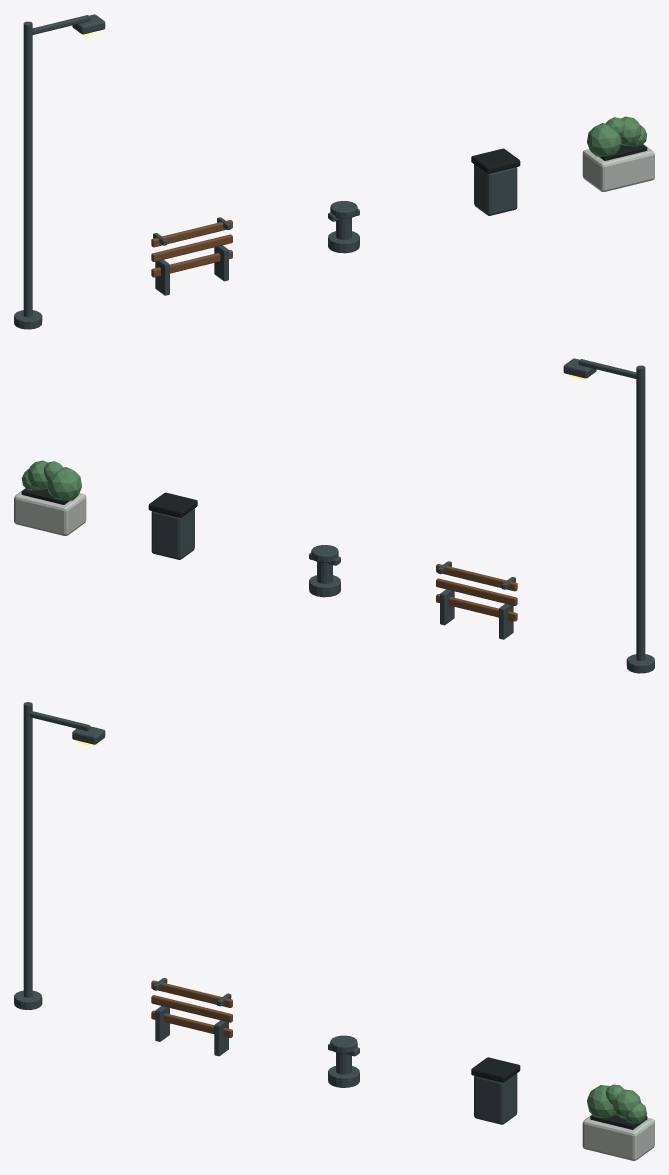
File: streetKit.glb
3 renders of one model, top to bottom at view 1: azimuth 30°, elevation 25°; view 2: azimuth 150°, elevation 25°; view 3: azimuth 330°, elevation 25°, orthographic.
Visible parts, largest first — view 1: Lamp_Pole, Planter_Tub, Bin_Body, Planter_Foliage, Bin_Lid, Bench_WoodSlat.002, Bench_WoodSlat.001, Bench_WoodSlat, Bollard_Base, Planter_Foliage.001; view 2: Lamp_Pole, Planter_Tub, Bin_Body, Planter_Foliage, Bin_Lid, Bench_WoodSlat.002, Bench_WoodSlat.001, Bench_WoodSlat, Bollard_Base, Planter_Foliage.001; view 3: Lamp_Pole, Planter_Tub, Bin_Body, Bin_Lid, Bench_WoodSlat.002, Bench_WoodSlat.001, Planter_Foliage.
Boxes of the visible parts, bbox=[...] form: Lamp_Pole: bbox=[23, 21, 32, 317]; Planter_Tub: bbox=[582, 144, 654, 191]; Bin_Body: bbox=[474, 164, 517, 215]; Planter_Foliage: bbox=[587, 123, 621, 156]; Bin_Lid: bbox=[471, 148, 520, 173]; Bench_WoodSlat.002: bbox=[151, 234, 232, 261]; Bench_WoodSlat.001: bbox=[151, 220, 232, 247]; Bench_WoodSlat: bbox=[151, 250, 232, 277]; Bollard_Base: bbox=[328, 231, 359, 253]; Planter_Foliage.001: bbox=[621, 116, 641, 146]; Lamp_Pole: bbox=[636, 365, 645, 661]; Planter_Tub: bbox=[14, 488, 86, 535]; Bin_Body: bbox=[151, 508, 194, 559]; Planter_Foliage: bbox=[47, 467, 81, 500]; Bin_Lid: bbox=[148, 492, 197, 517]; Bench_WoodSlat.002: bbox=[436, 578, 517, 605]; Bench_WoodSlat.001: bbox=[436, 564, 517, 591]; Bench_WoodSlat: bbox=[436, 594, 517, 621]; Bollard_Base: bbox=[309, 575, 340, 597]; Planter_Foliage.001: bbox=[27, 460, 47, 490]; Lamp_Pole: bbox=[23, 702, 32, 997]; Planter_Tub: bbox=[582, 1114, 654, 1160]; Bin_Body: bbox=[474, 1073, 517, 1124]; Bin_Lid: bbox=[471, 1057, 520, 1082]; Bench_WoodSlat.002: bbox=[151, 995, 232, 1022]; Bench_WoodSlat.001: bbox=[151, 980, 232, 1007]; Planter_Foliage: bbox=[587, 1085, 616, 1117].
Size of the model in its own units: 15.36 by 7.02 by 0.8801.
